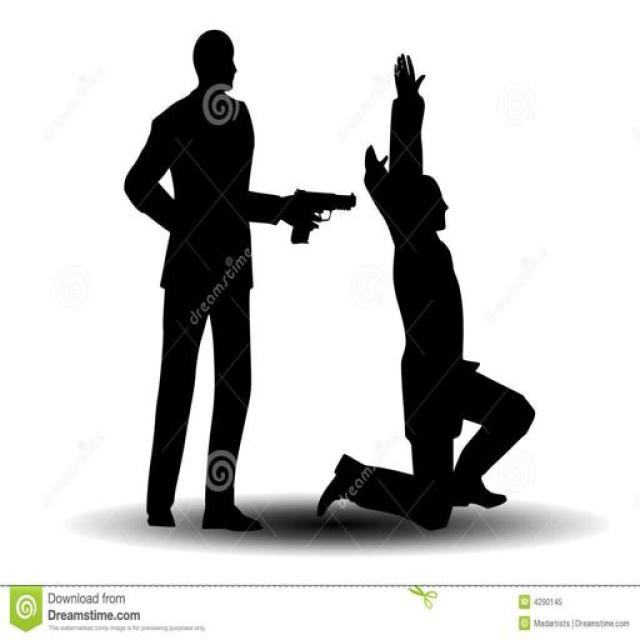pistol: (288, 188, 356, 244)
